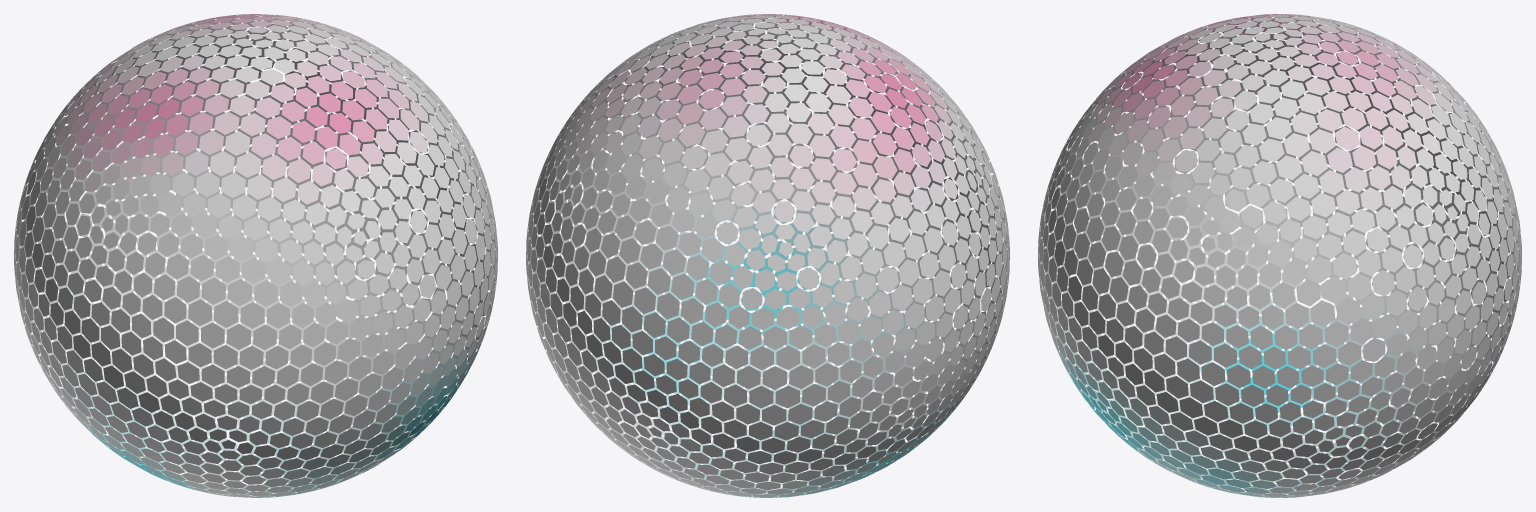
The model's file is mag_hot_selena.fbx.
3 renders of one model, left to right at view 1: azimuth 30°, elevation 25°; view 2: azimuth 150°, elevation 25°; view 3: azimuth 270°, elevation 25°, orthographic.
Visible parts, largest first — view 1: magneto_hot_selena; view 2: magneto_hot_selena; view 3: magneto_hot_selena.
Boxes of the visible parts, x1,y1,x2,y2 form: magneto_hot_selena: (14, 14, 497, 497); magneto_hot_selena: (526, 14, 1009, 497); magneto_hot_selena: (1038, 14, 1521, 497).
Bounding box in the file's own units: 218 × 218 × 218.
